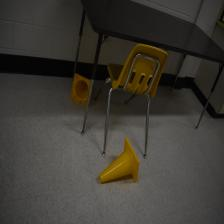cone: (98, 136, 140, 184), (70, 72, 91, 106)
